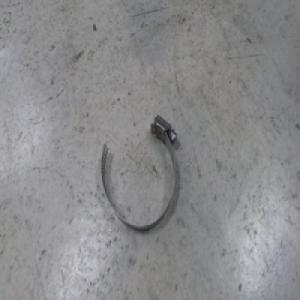AdjustableClamp: (100, 109, 183, 236)
